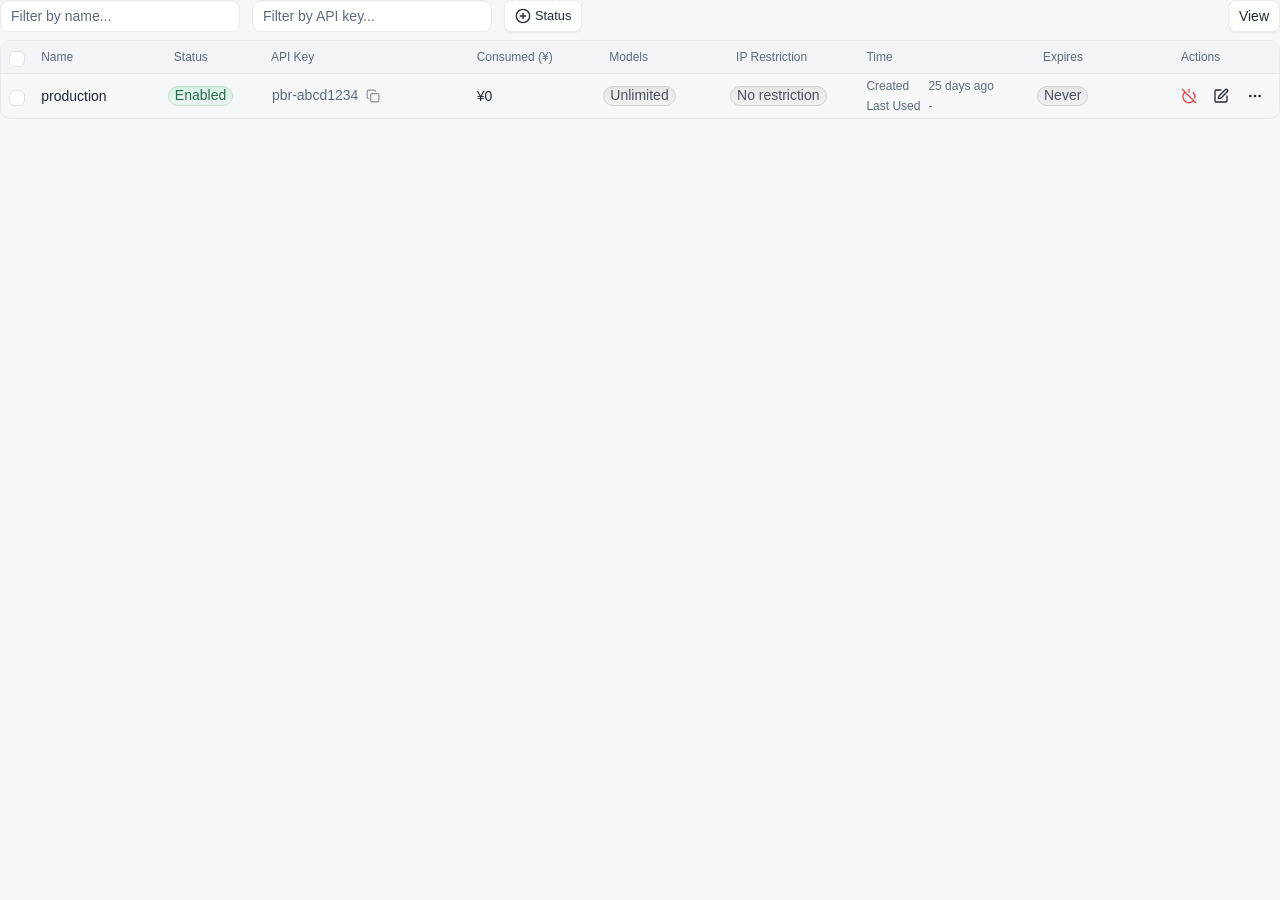
Test case: rotates only after an explicit confirmation and reveals the new key
The width and height of the screenshot is (1280, 900).
Expected: the text "production" is shown, [41, 88, 107, 104]
Step 1. Click the button "pbr-abcd1234" → (315, 96), box [271, 82, 359, 110]
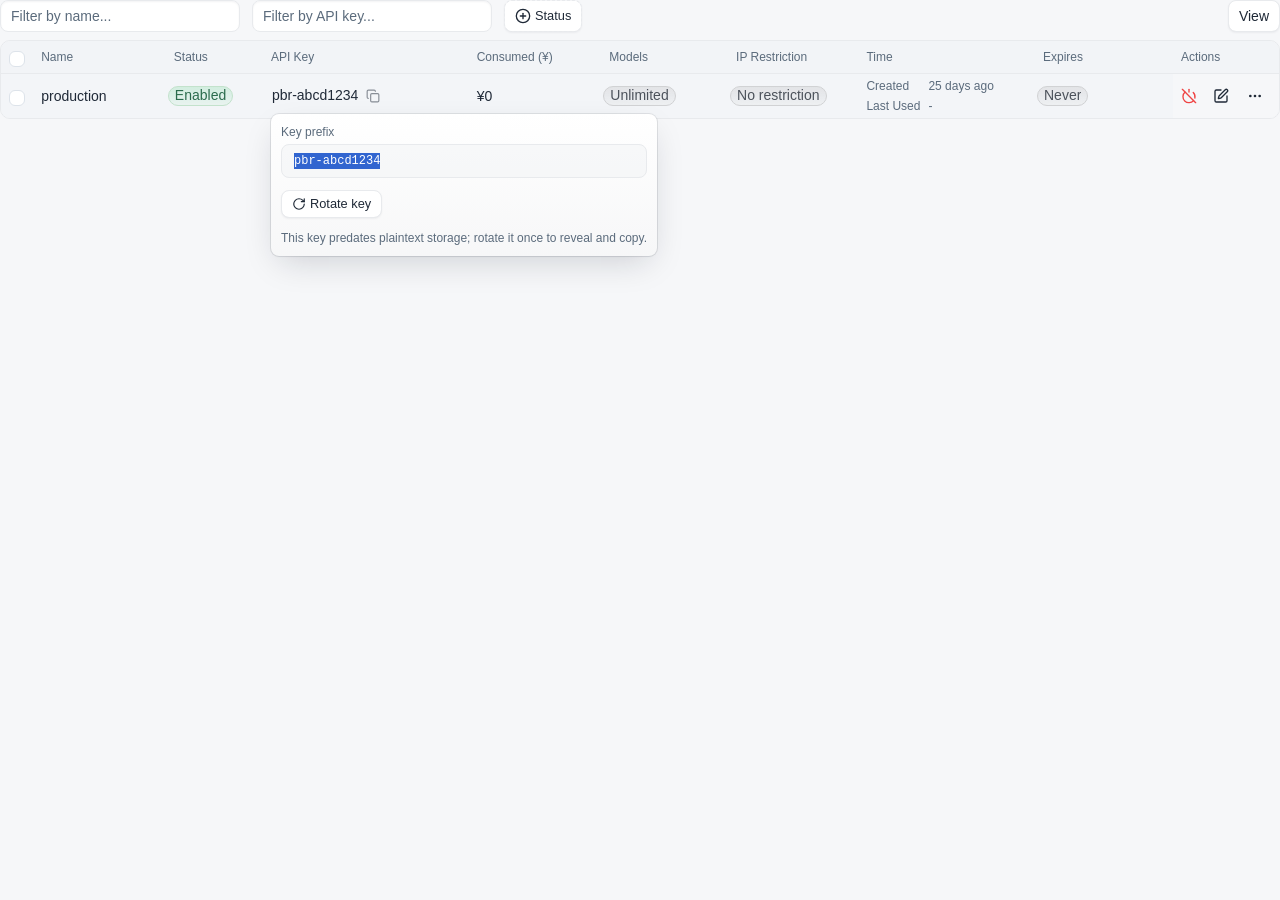
Step 2. Click the button "Rotate key" → (332, 204), box [281, 190, 382, 218]
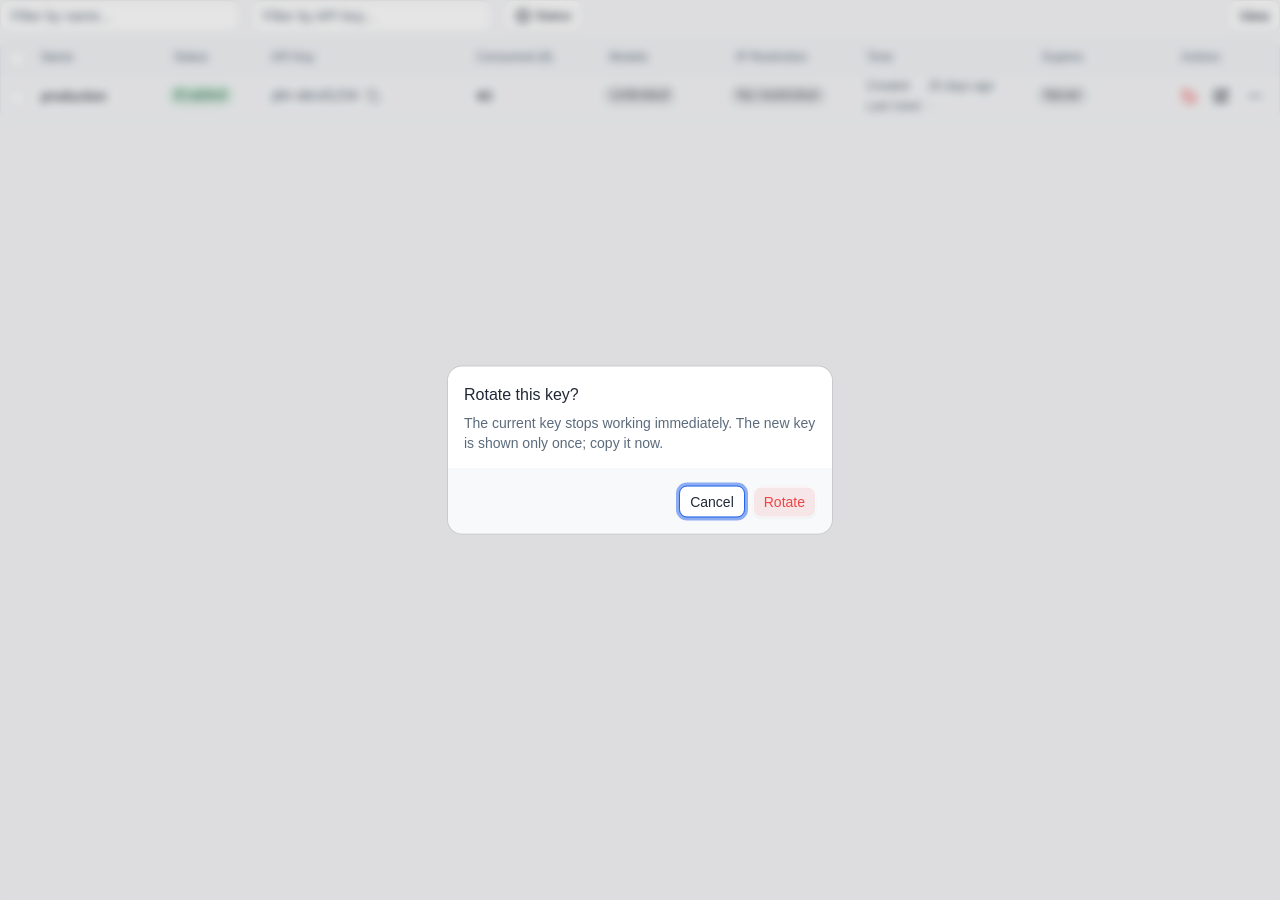
Result: the heading "Rotate this key?" is shown at [464, 382, 579, 406]
Step 3. Click the button "Rotate" → (784, 502), box [753, 486, 816, 518]
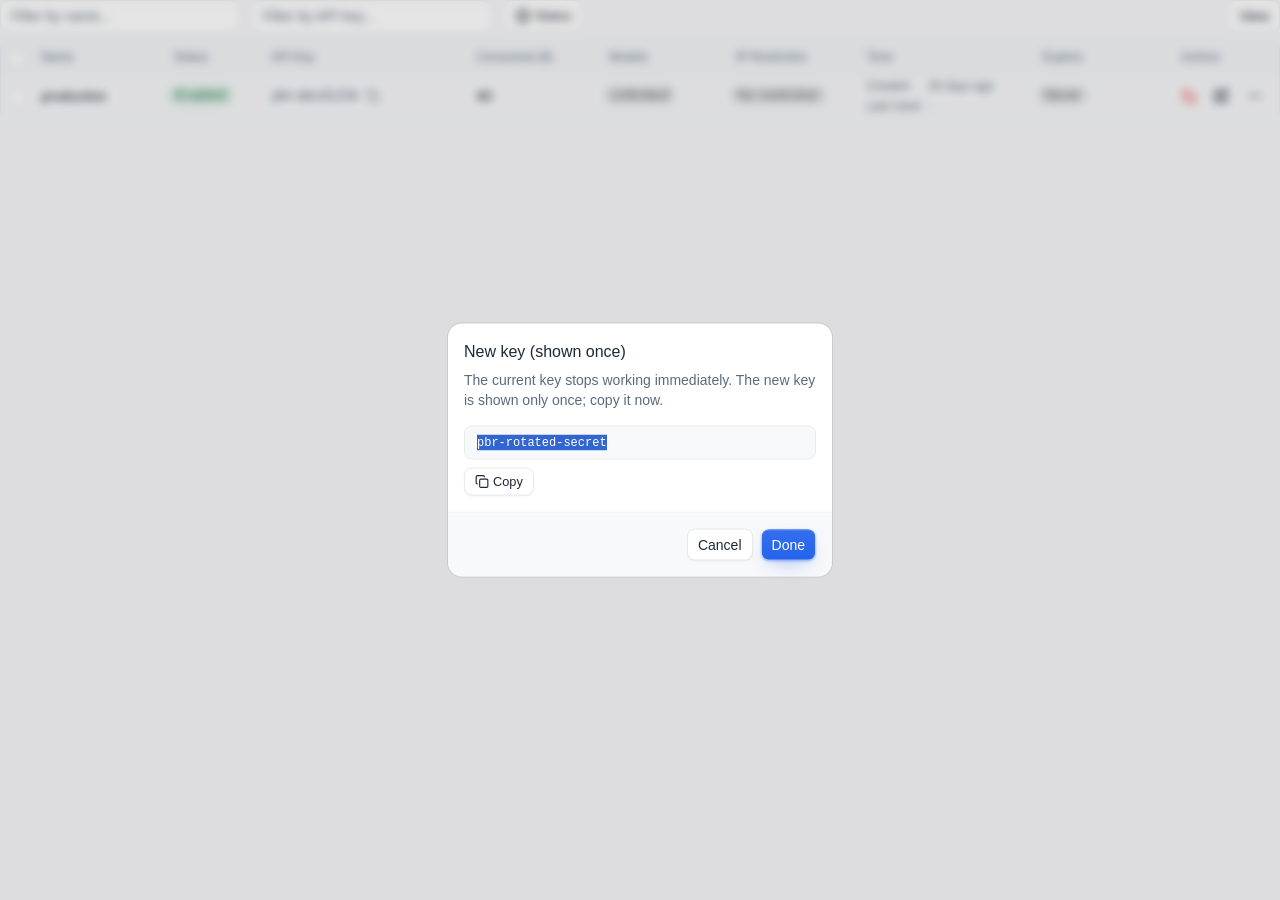
Result: the field showing "pbr-rotated-secret" is shown at [464, 426, 816, 460]
